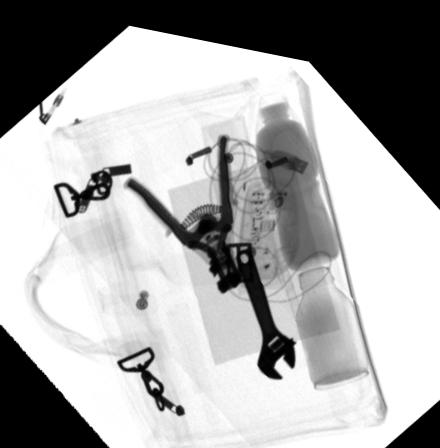Pliers: (122, 124, 241, 282)
Wrench: (235, 238, 297, 366)
